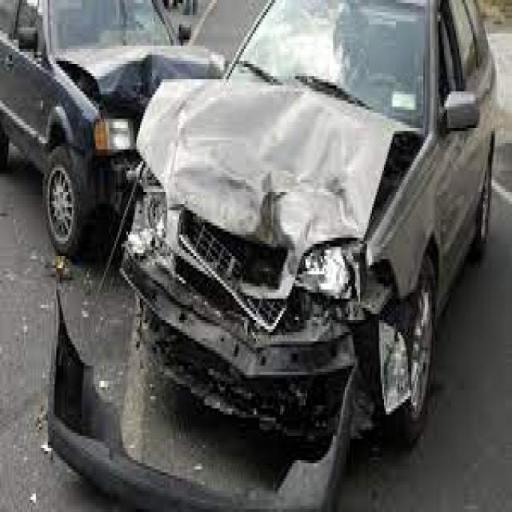小汽车撞小汽车: (10, 10, 486, 317)
